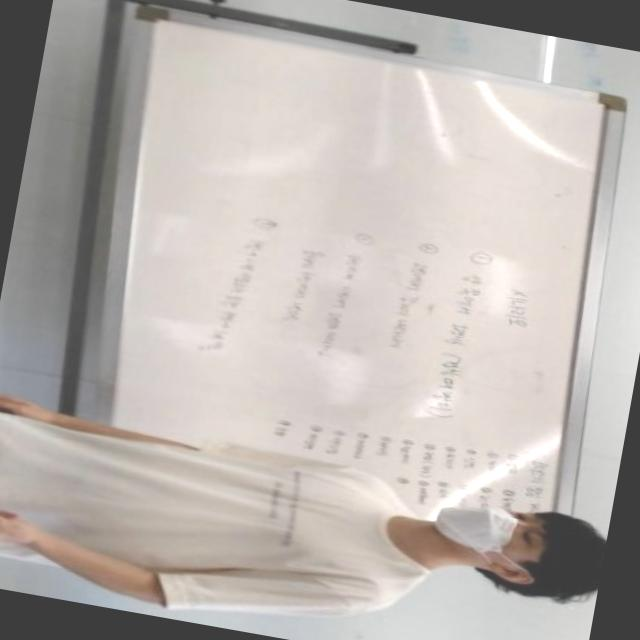Instructor: (57, 420, 604, 640)
White-board: (87, 17, 622, 585)
